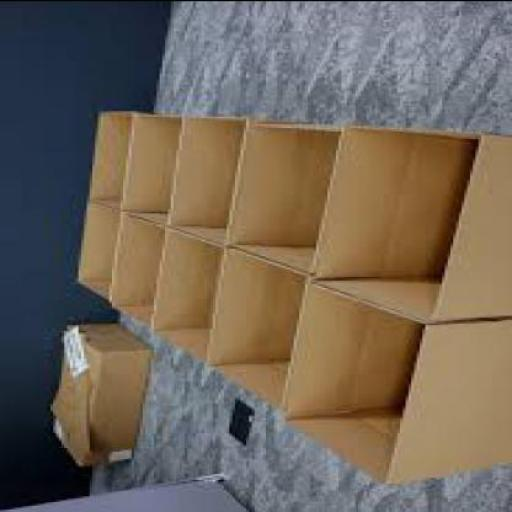cardboard: (274, 278, 510, 480), (308, 121, 510, 321), (224, 120, 350, 270), (210, 250, 313, 407), (45, 320, 146, 462), (168, 114, 254, 242), (145, 227, 222, 360), (118, 110, 185, 224), (109, 210, 165, 328), (87, 108, 151, 208), (48, 324, 92, 456), (70, 199, 128, 298)
